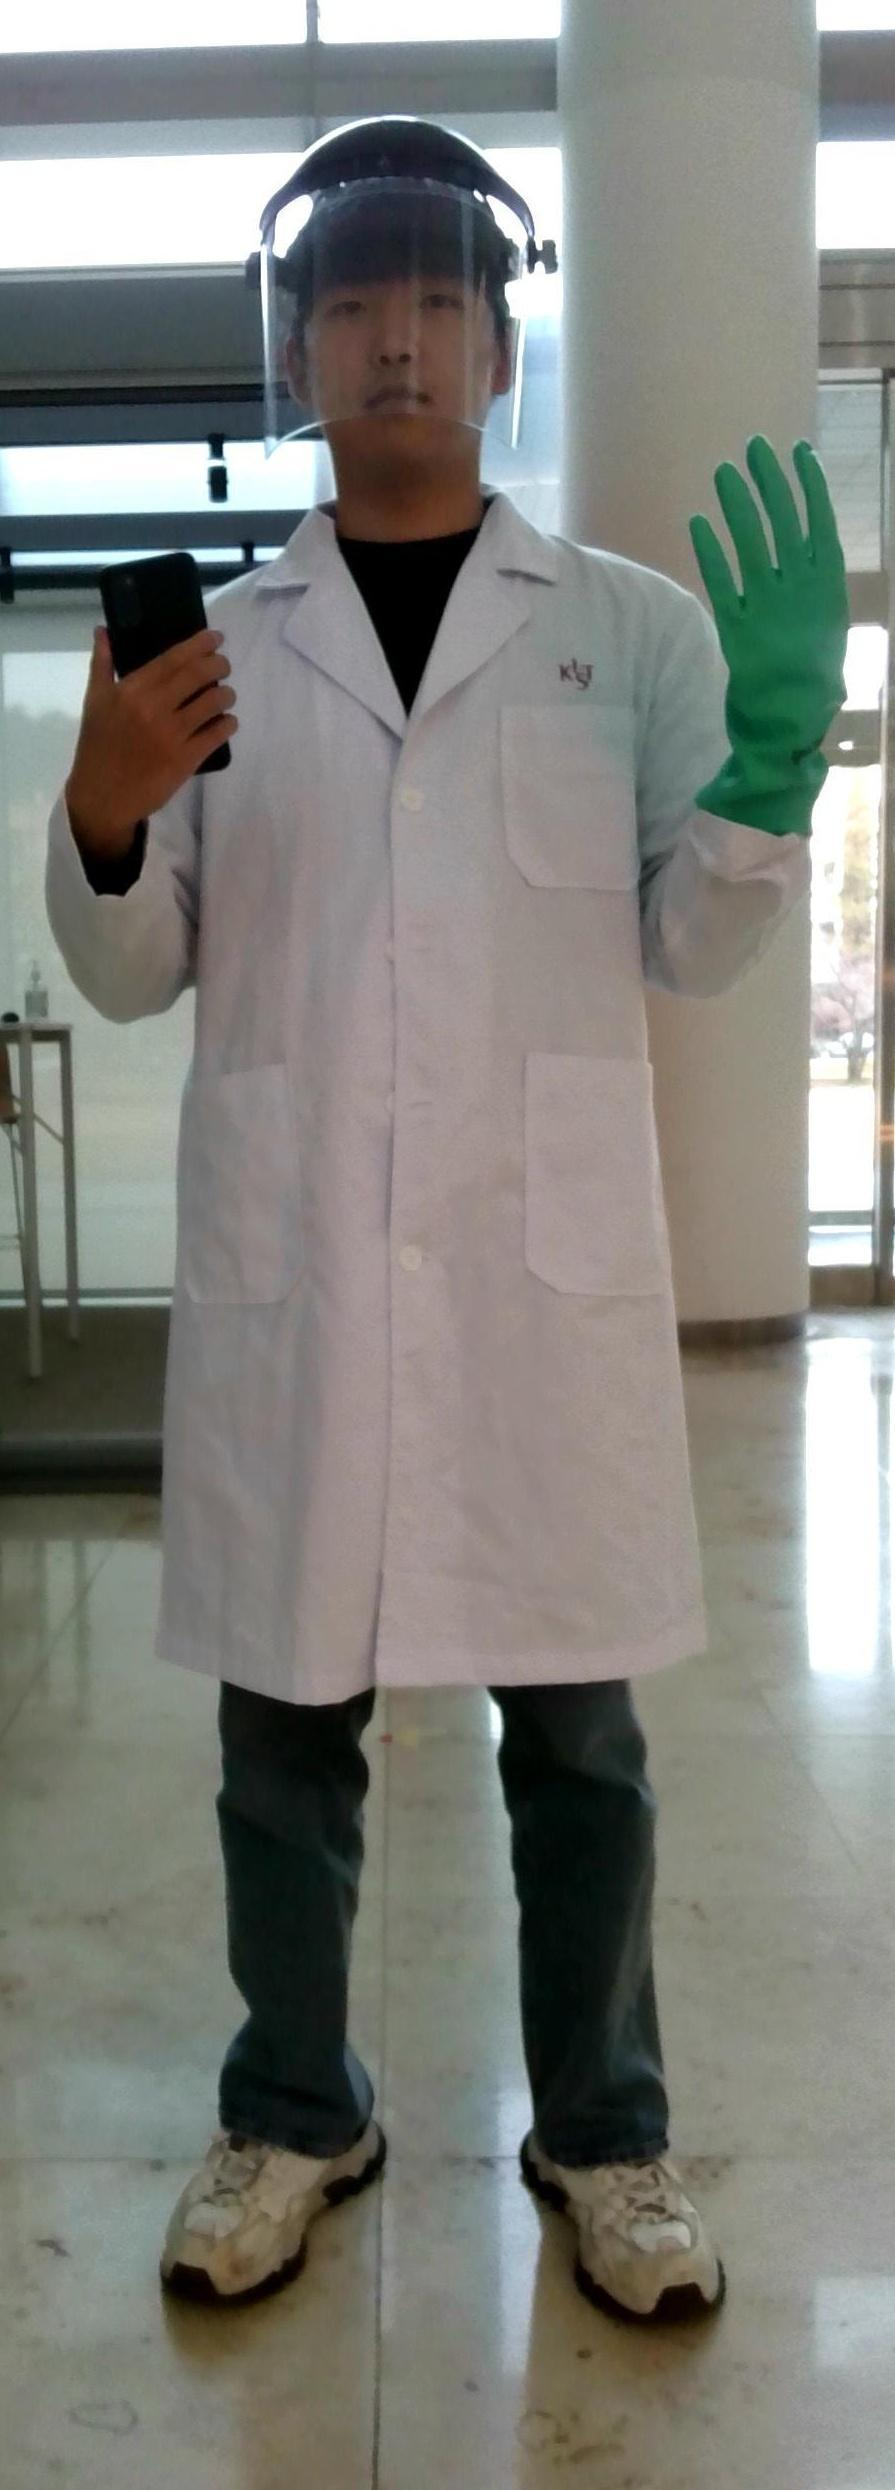lab_coat: (241, 565, 674, 1653)
